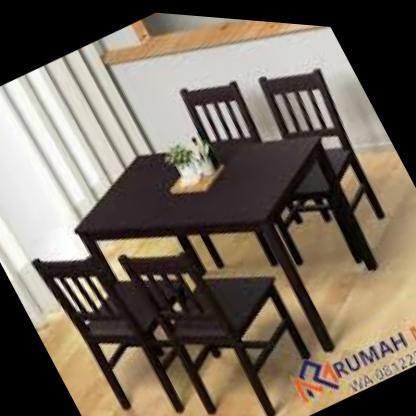Dining Table: (0, 0, 416, 416)
Wooden floor: (345, 177, 416, 327), (75, 392, 282, 416)
